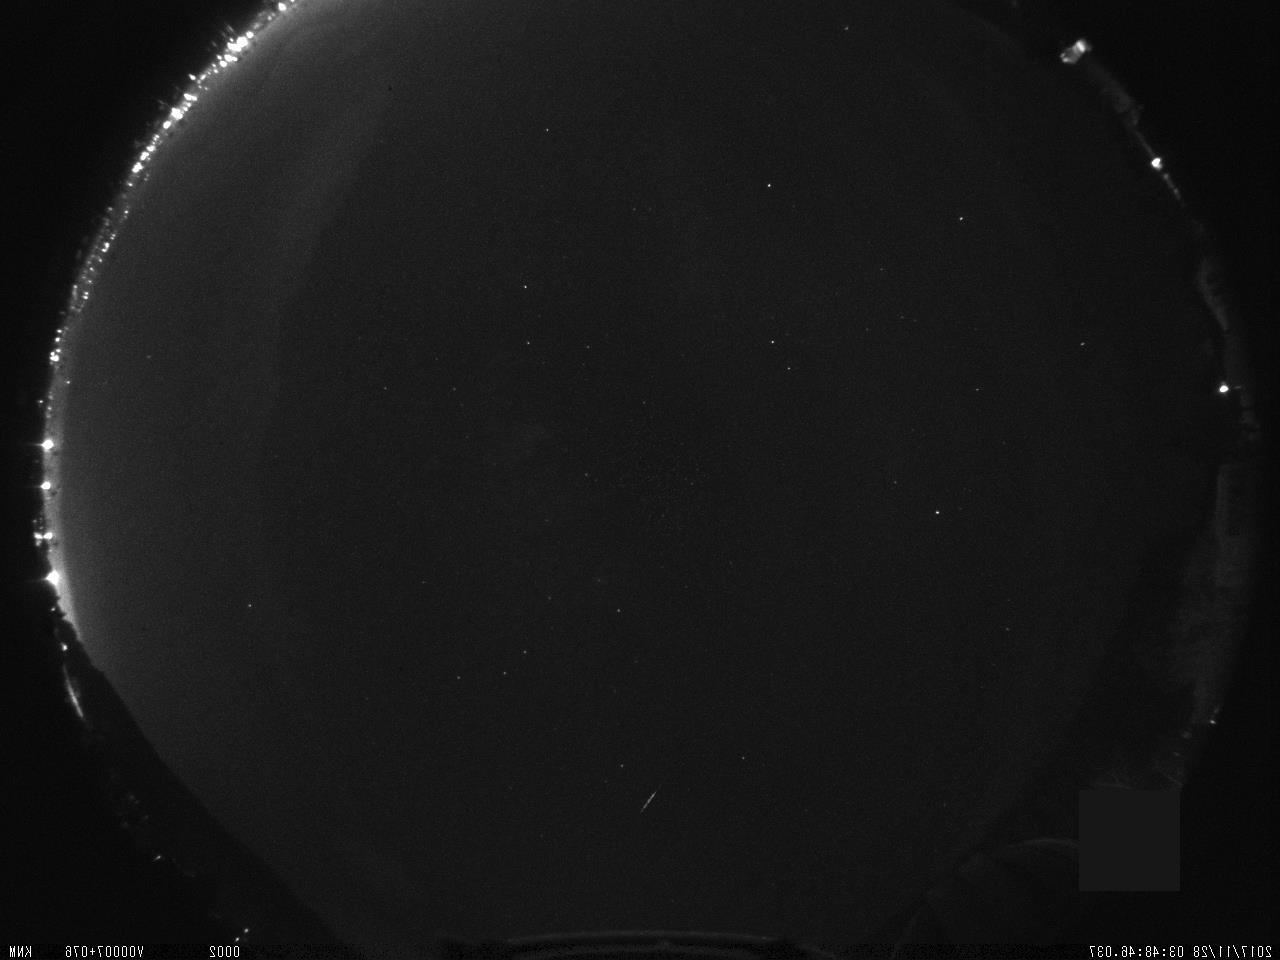meteor: (611, 763, 692, 835)
